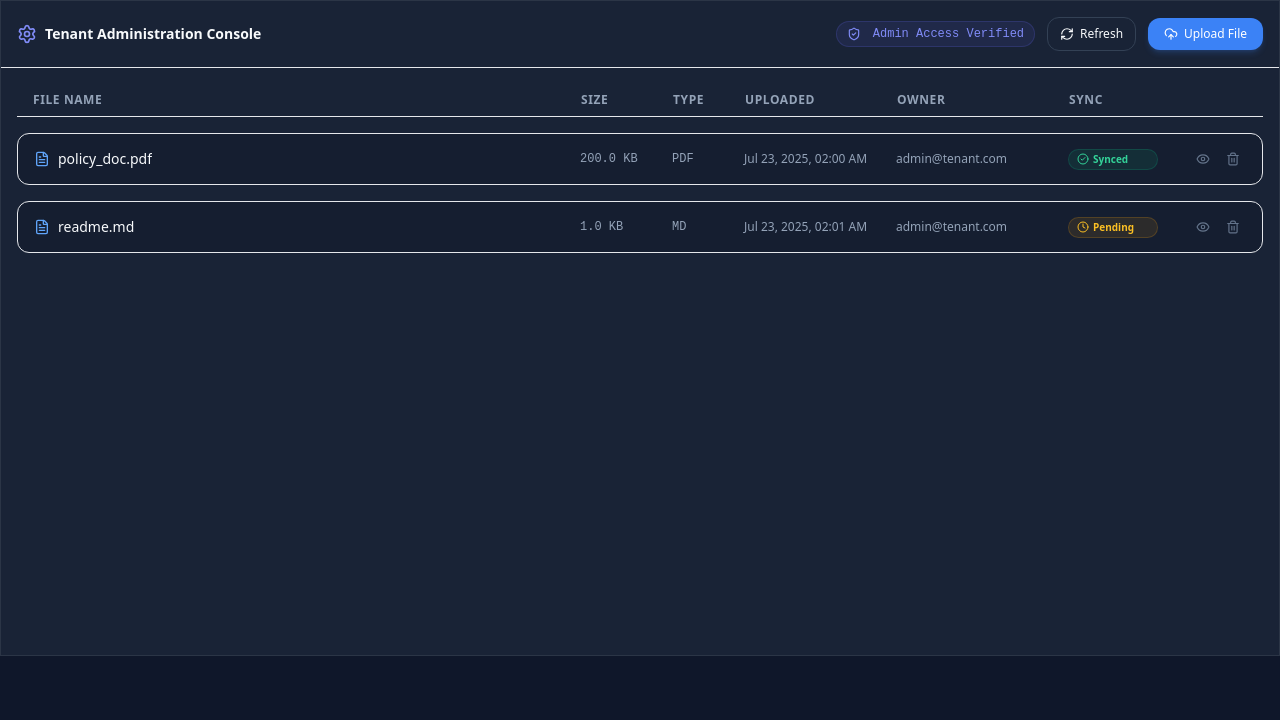
ManagementPage Component › shows an error message when preview download fails
This screenshot has width=1280, height=720.
Check: the text "readme.md" is shown, box [58, 217, 134, 237]
Click the button with test id "preview-file-100002": [1203, 227] box [1190, 214, 1216, 240]
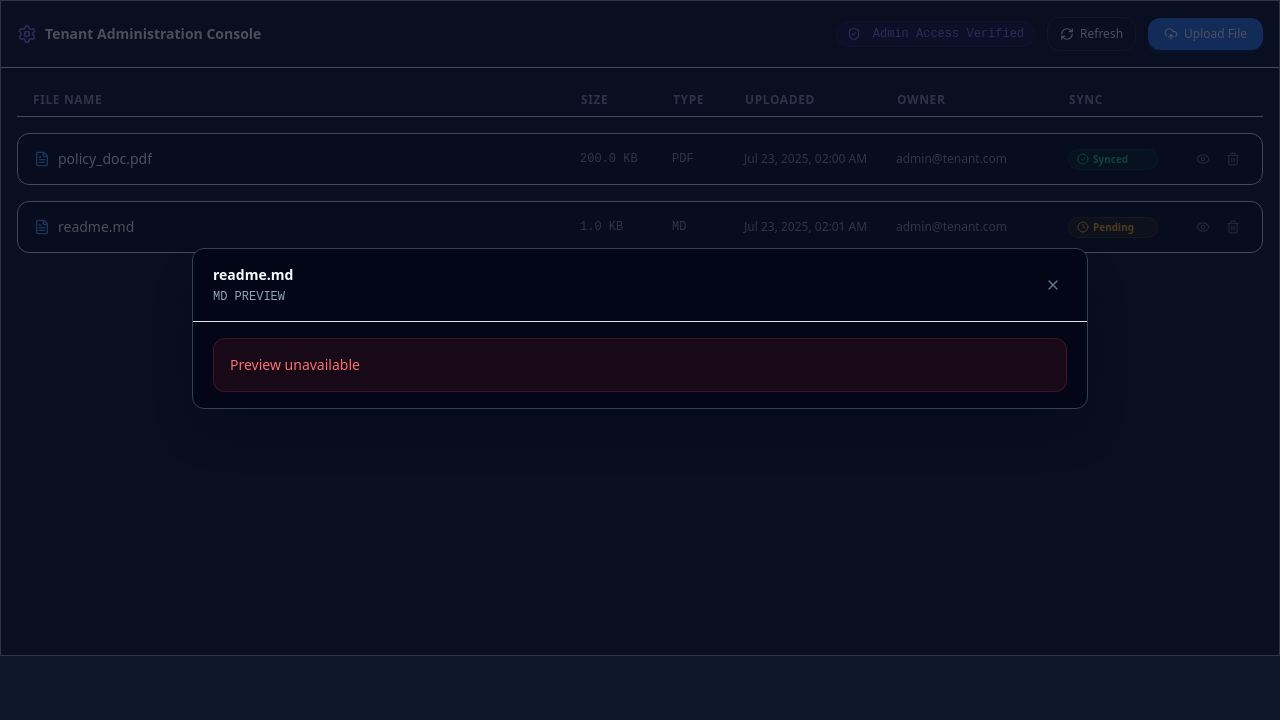
Check: the text "Preview unavailable" is shown, box [213, 338, 1067, 392]
